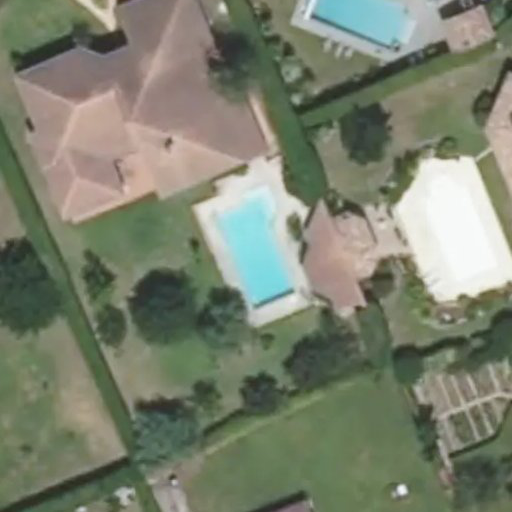pool: (211, 201, 311, 281)
